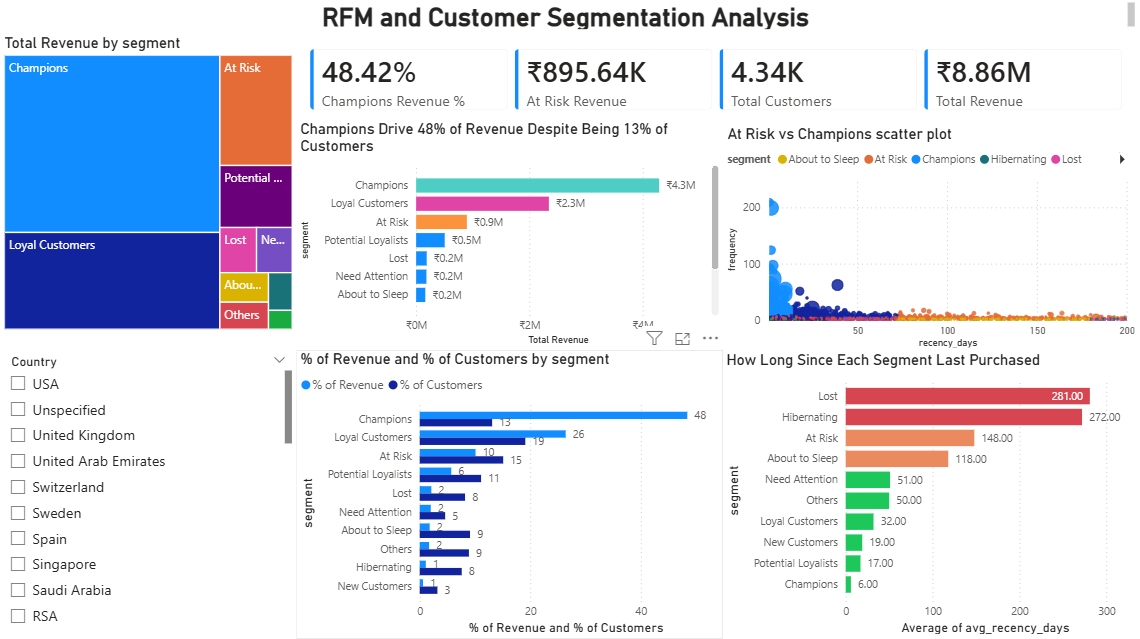

What the dashboard file says about the page in this screenshot:
{"tool":"powerbi","page":{"name":"Page 1","canvas":[1280,720],"ordinal":0},"visuals":[{"type":"cardVisual","fields":{"Data":["rfm_segments.Champions Revenue %","rfm_segments.At Risk Revnue","rfm_segments.Total Customers","rfm_segments.Total Revenue"]},"box":[332,40,948,102],"z":0},{"type":"barChart","title":"Champions Drive 48% of Revenue Despite Being 13% of Customers","fields":{"Category":["rfm_segments.segment"],"Y":["rfm_segments.Total Revenue"]},"box":[332.5,137.5,480,257.5],"z":1000},{"type":"clusteredBarChart","title":"How Long Since Each Segment Last Purchased","fields":{"Category":["recency_distribution_by_segment.segment"],"Y":["Avg(recency_distribution_by_segment.avg_recency_days)"]},"box":[811.7,396.7,468.3,323.3],"z":2000},{"type":"scatterChart","title":"At Risk vs Champions scatter plot","fields":{"X":["rfm_segments.recency_days"],"Y":["rfm_segments.frequency"],"Size":["Sum(rfm_segments.monetary)"],"Series":["rfm_segments.segment"]},"box":[812.5,142.5,467.5,255],"z":3000},{"type":"clusteredBarChart","fields":{"Y":["Sum(v_segment_contribution.pct_revenue)","Sum(v_segment_contribution.pct_customers)"],"Category":["v_segment_contribution.segment"]},"box":[332.5,395,480,325],"z":4000},{"type":"treemap","fields":{"Group":["rfm_segments.segment"],"Values":["rfm_segments.Total Revenue"]},"box":[0,40,333.3,336.7],"z":5000},{"type":"slicer","fields":{"Values":["rfm_segments.country"]},"box":[0,395,333,325],"z":6000},{"type":"textbox","box":[0,0,1280,40],"z":7000}]}

Visuals, with their boxes in screenshot pixels (x1, y1, x2, y2), scaled from the page's 1280x720 canvas onto the 1140x639 screenshot:
cardVisual - rfm_segments.Champions Revenue % x rfm_segments.At Risk Revnue: {"left": 296, "top": 36, "right": 1139, "bottom": 126}
"Champions Drive 48% of Revenue Despite Being 13% of Customers" barChart: {"left": 296, "top": 122, "right": 724, "bottom": 351}
"How Long Since Each Segment Last Purchased" clusteredBarChart: {"left": 723, "top": 352, "right": 1139, "bottom": 638}
"At Risk vs Champions scatter plot" scatterChart: {"left": 724, "top": 126, "right": 1139, "bottom": 353}
clusteredBarChart - Sum(v_segment_contribution.pct_revenue) x Sum(v_segment_contribution.pct_customers): {"left": 296, "top": 351, "right": 724, "bottom": 638}
treemap - rfm_segments.segment x rfm_segments.Total Revenue: {"left": 0, "top": 36, "right": 297, "bottom": 334}
slicer - rfm_segments.country: {"left": 0, "top": 351, "right": 297, "bottom": 638}
textbox: {"left": 0, "top": 0, "right": 1139, "bottom": 36}
